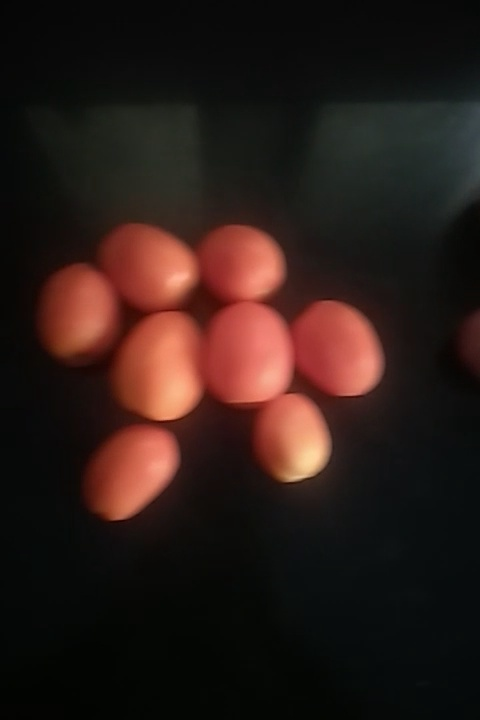tomato: (110, 312, 206, 425), (81, 422, 185, 520), (298, 294, 385, 403), (206, 297, 293, 406), (37, 262, 118, 364), (198, 220, 291, 306), (255, 394, 337, 485), (101, 223, 191, 304)
